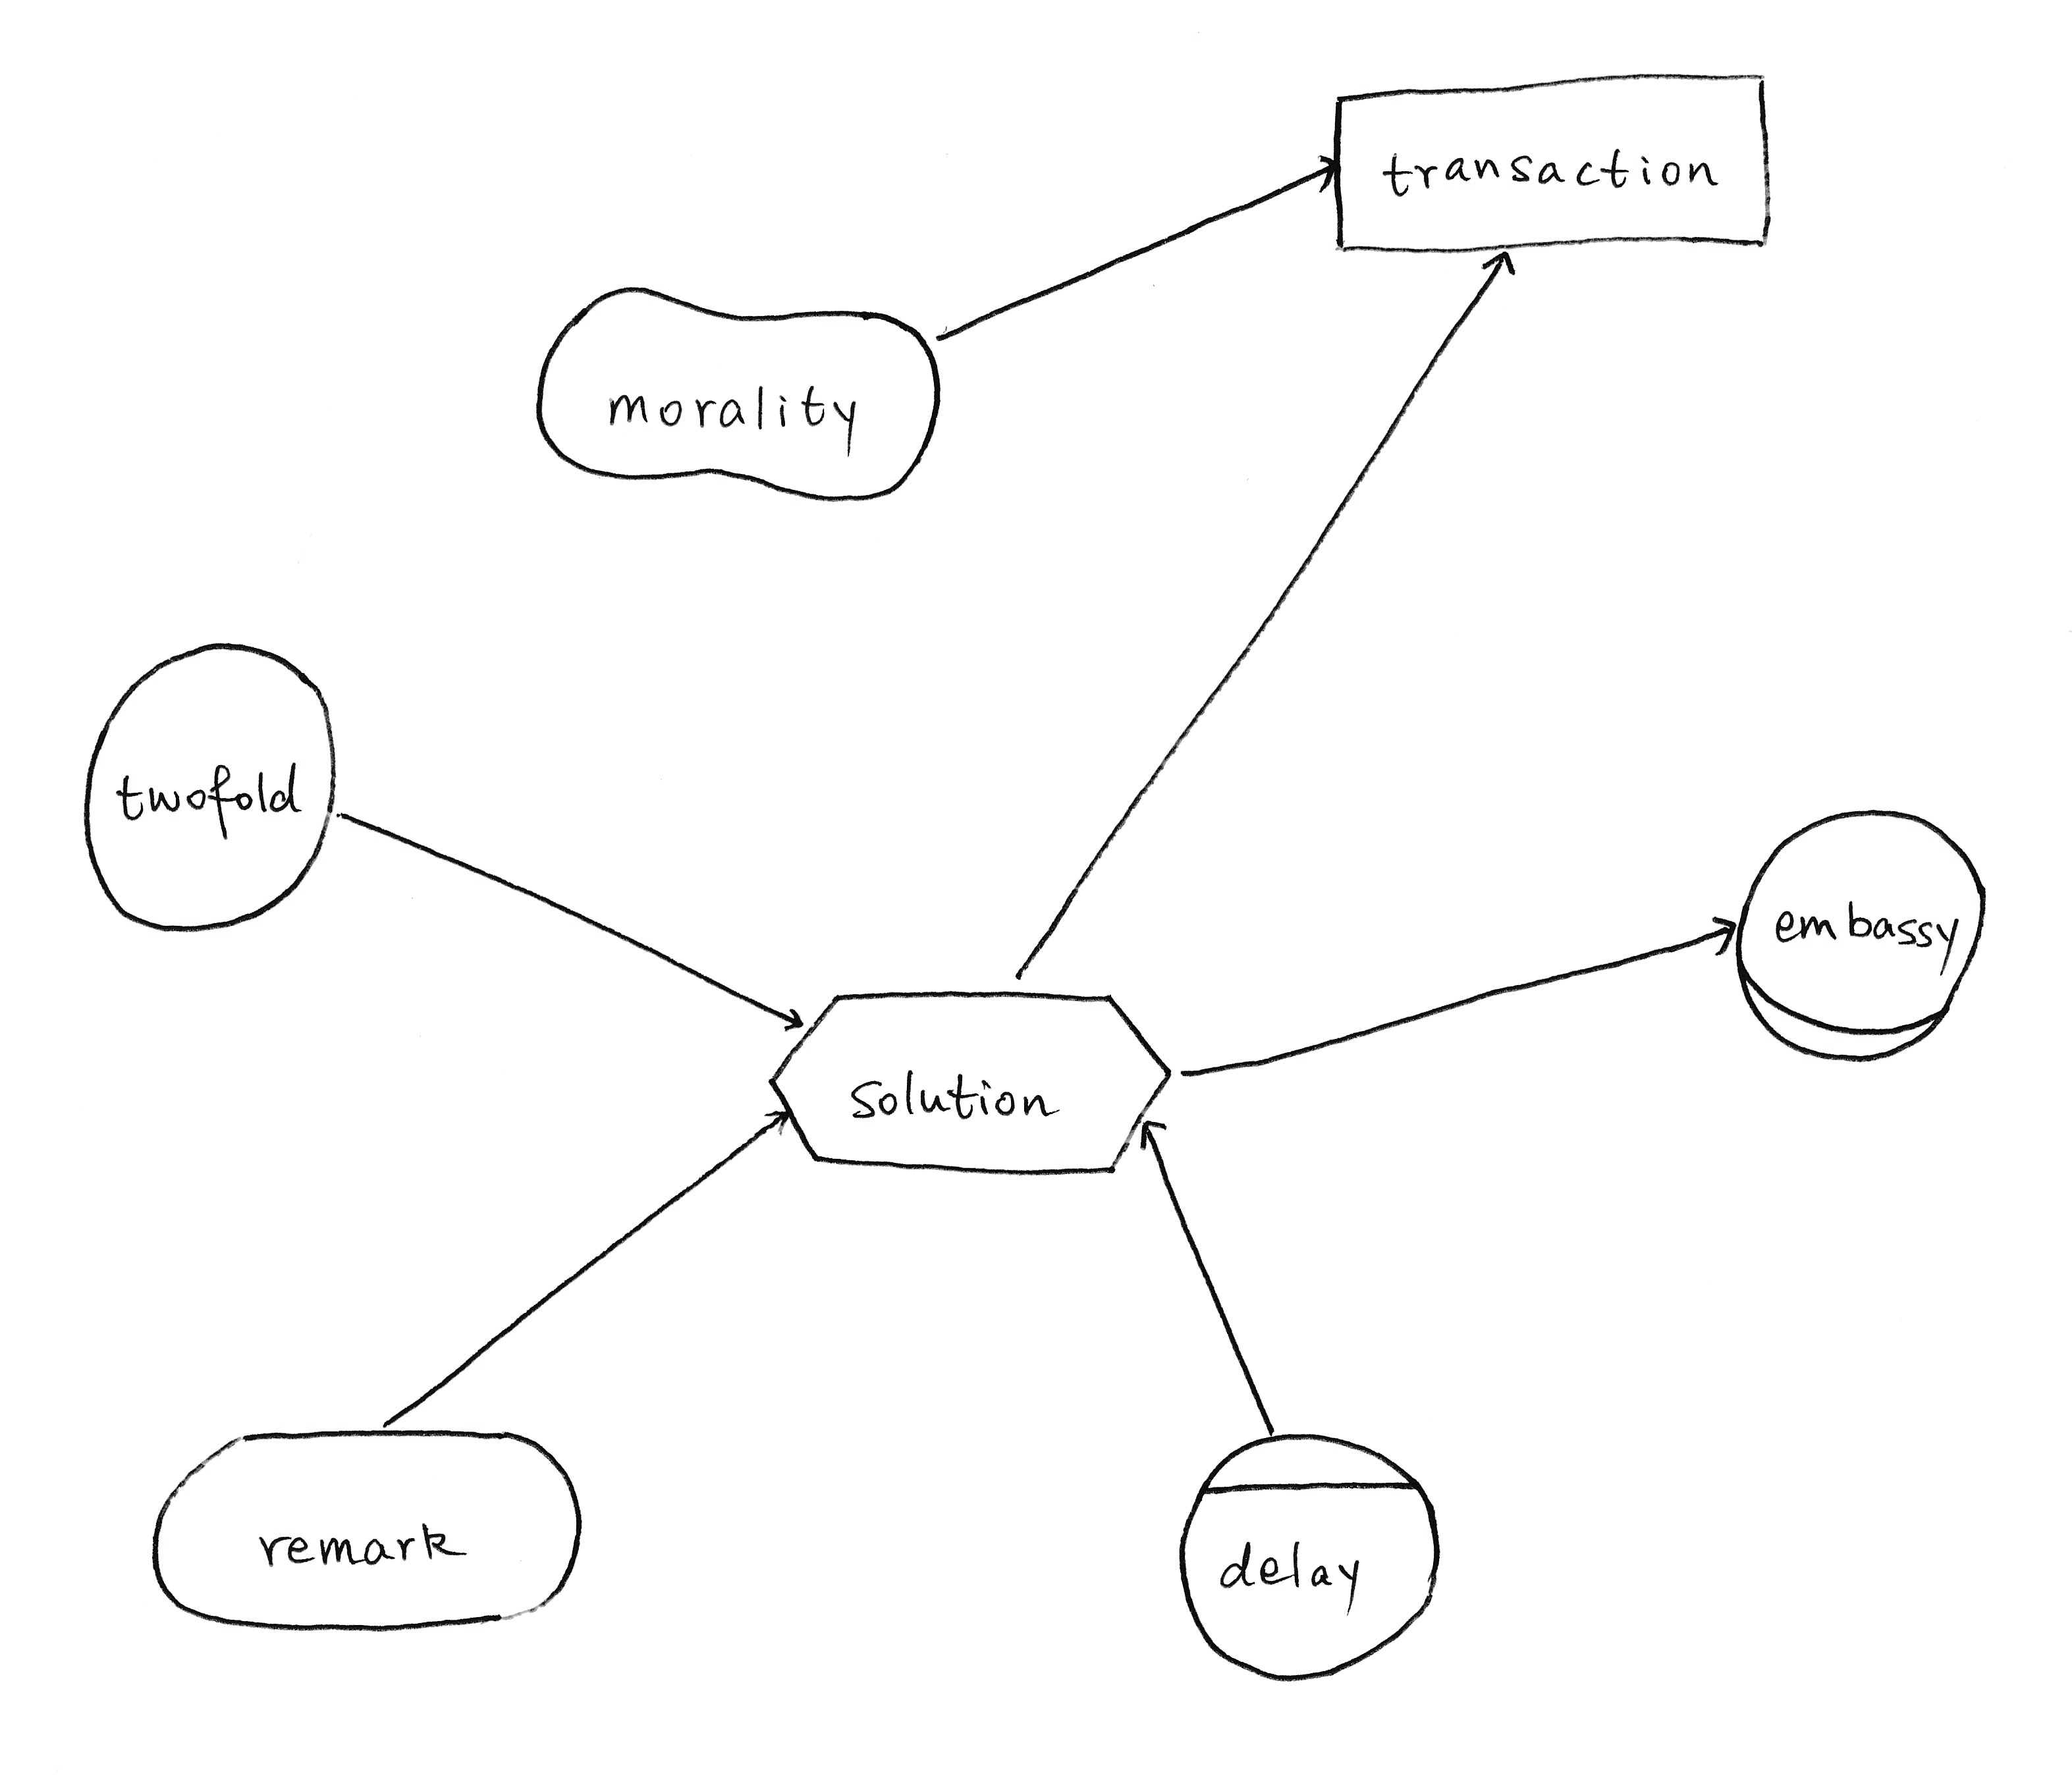actor: (60, 620, 352, 944)
agent: (1161, 1414, 1457, 1701)
arrow: (1295, 127, 1358, 215), (1455, 232, 1542, 296), (761, 969, 816, 1057), (1690, 896, 1757, 967), (752, 1088, 816, 1161), (1119, 1101, 1184, 1164)
goal: (120, 1407, 606, 1650)
quality: (516, 264, 958, 523)
resource: (1299, 53, 1808, 280)
role: (1718, 794, 2012, 1080)
task: (749, 969, 1189, 1199)
